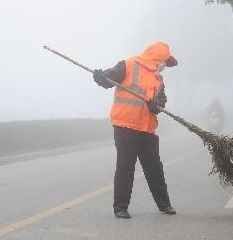person: (92, 39, 181, 219), (205, 97, 226, 133)
